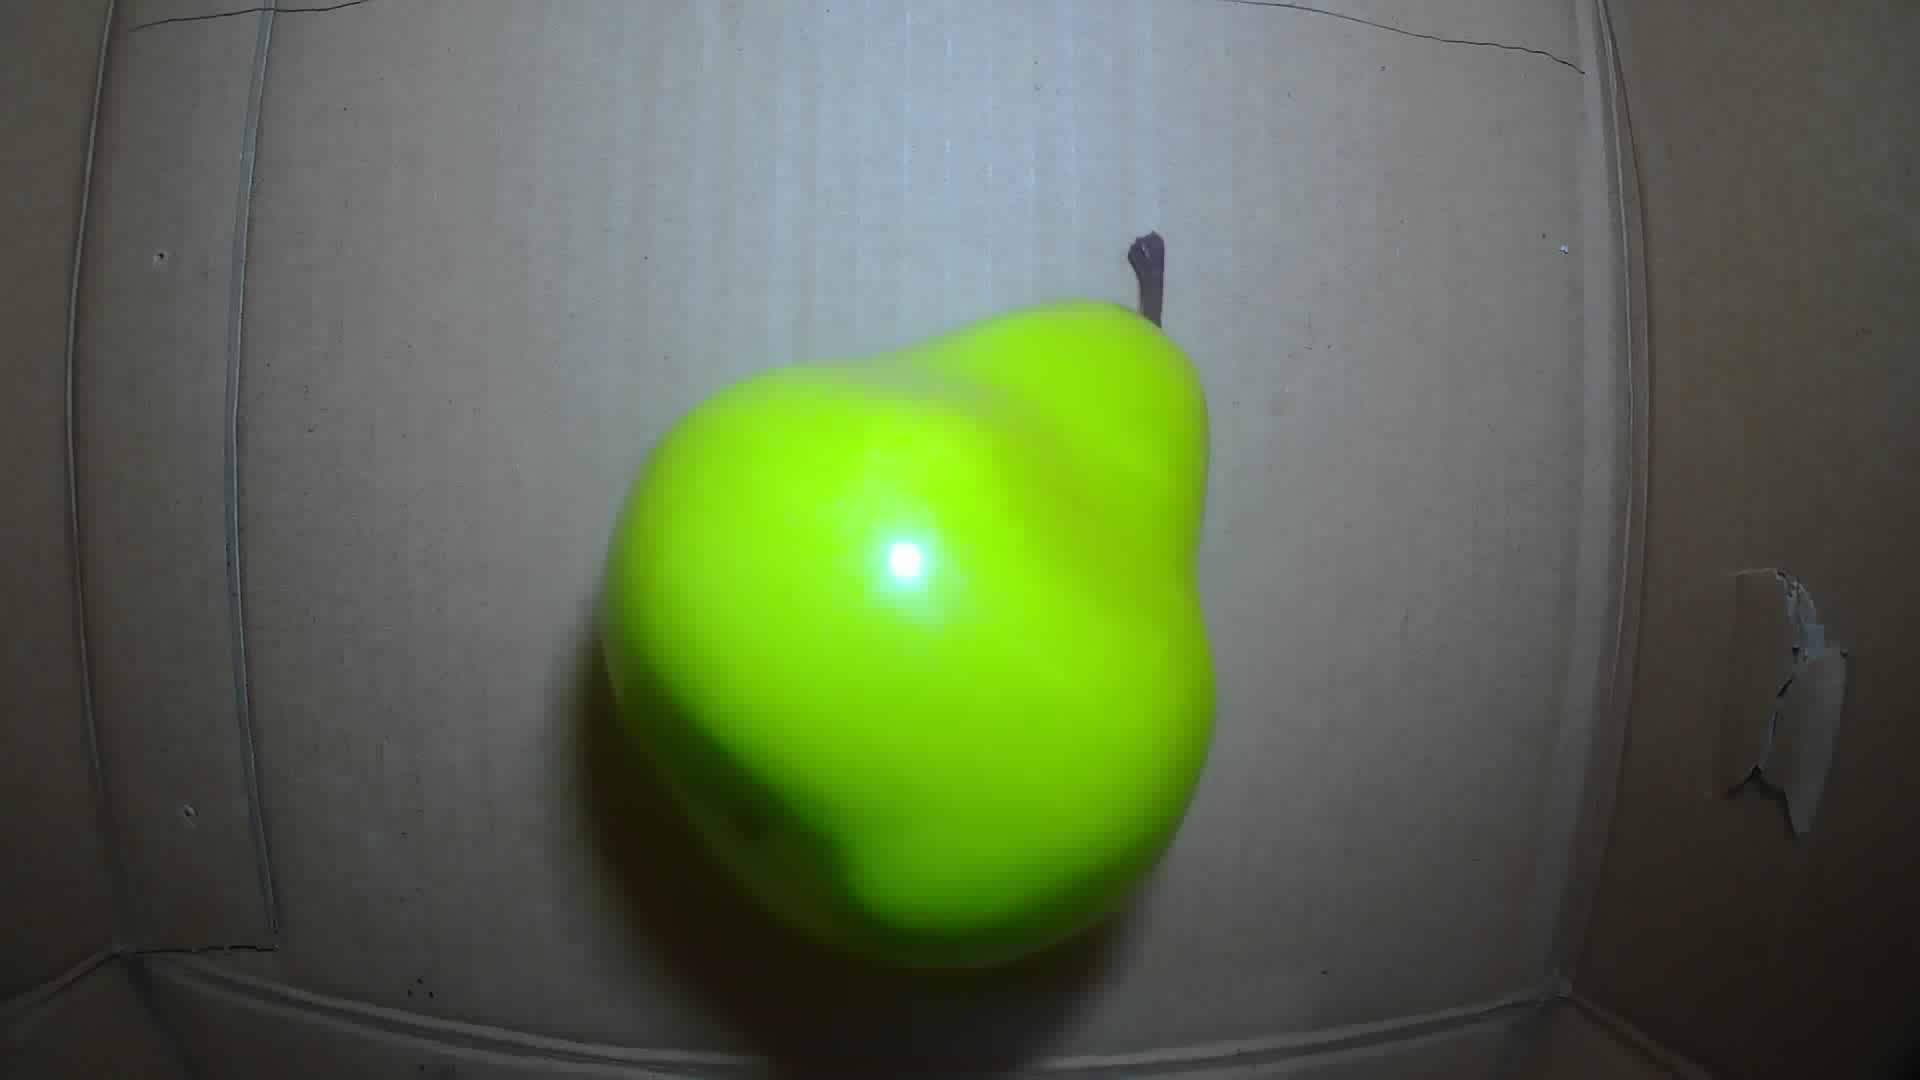pear: (596, 223, 1218, 967)
